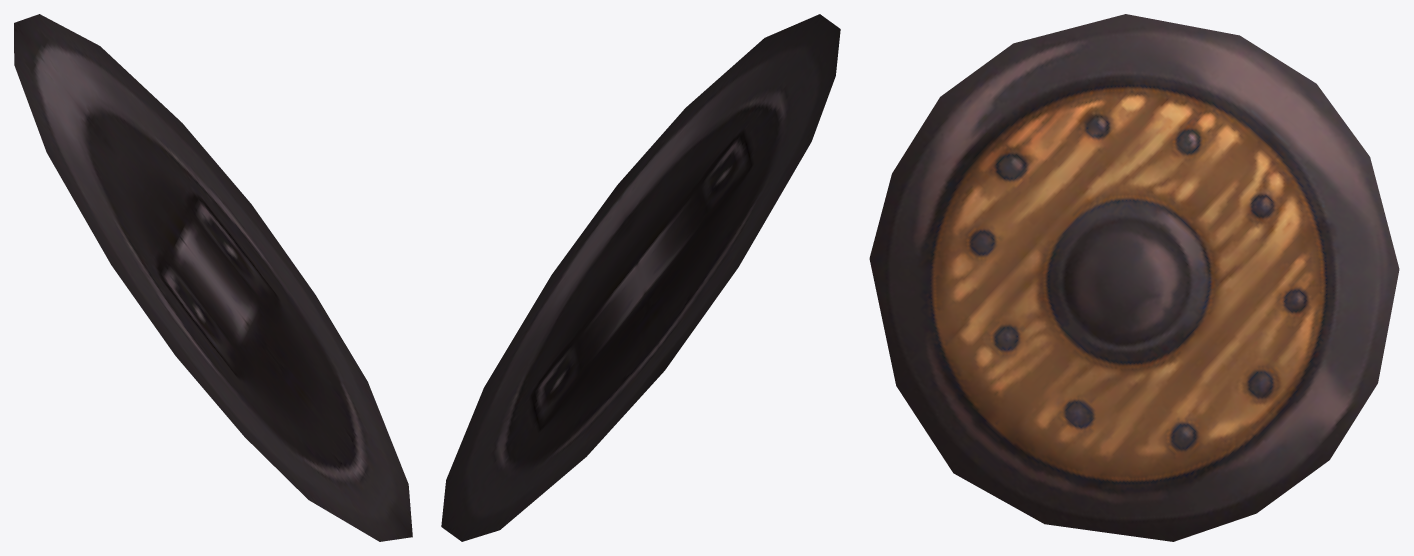
Rendered from 0071_EQUIP_Shield.fbx.
3 views of the same model, side by side, from view 1: azimuth 30°, elevation 25°; view 2: azimuth 150°, elevation 25°; view 3: azimuth 270°, elevation 25° (orthographic). The views are drawn at different scales.
Visible parts, largest first — view 1: 0071_EQUIP_Shield; view 2: 0071_EQUIP_Shield; view 3: 0071_EQUIP_Shield.
Part boxes in pixels (left/top/right/bottom): 0071_EQUIP_Shield: left=14, top=14, right=412, bottom=541; 0071_EQUIP_Shield: left=441, top=14, right=840, bottom=541; 0071_EQUIP_Shield: left=869, top=14, right=1399, bottom=541.
Size of the model in its own units: 0.4044 by 0.8673 by 0.9606.
